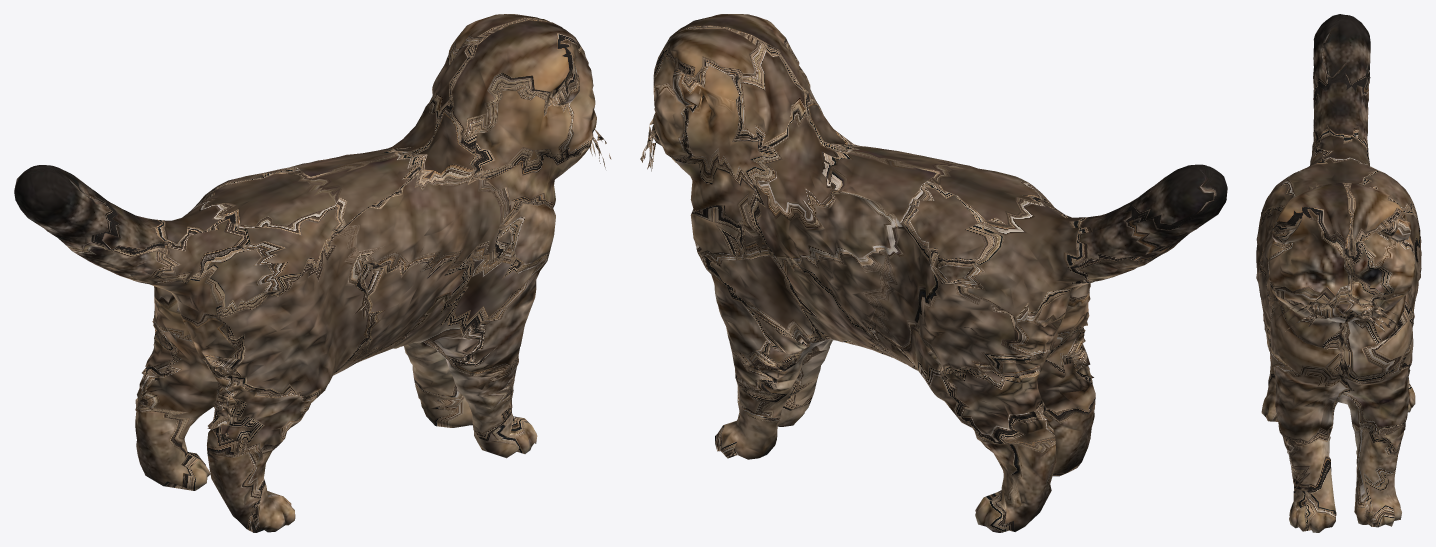
The model's file is PAYAKE-lo.glb.
3 views of the same model, side by side, from view 1: azimuth 30°, elevation 25°; view 2: azimuth 150°, elevation 25°; view 3: azimuth 270°, elevation 25° (orthographic). The views are drawn at different scales.
Parts seen in each view (by area): view 1: tripo_node_a577ba71-2106-4b6a-bf4c-0cf9c07442a0; view 2: tripo_node_a577ba71-2106-4b6a-bf4c-0cf9c07442a0; view 3: tripo_node_a577ba71-2106-4b6a-bf4c-0cf9c07442a0.
Boxes of the visible parts, <box> form: tripo_node_a577ba71-2106-4b6a-bf4c-0cf9c07442a0: <box>14,14,611,532</box>; tripo_node_a577ba71-2106-4b6a-bf4c-0cf9c07442a0: <box>640,14,1227,532</box>; tripo_node_a577ba71-2106-4b6a-bf4c-0cf9c07442a0: <box>1256,14,1421,532</box>.
Size of the model in its own units: 1.47 by 0.9982 by 0.433.
Materials: 1 (1 with a texture image).
